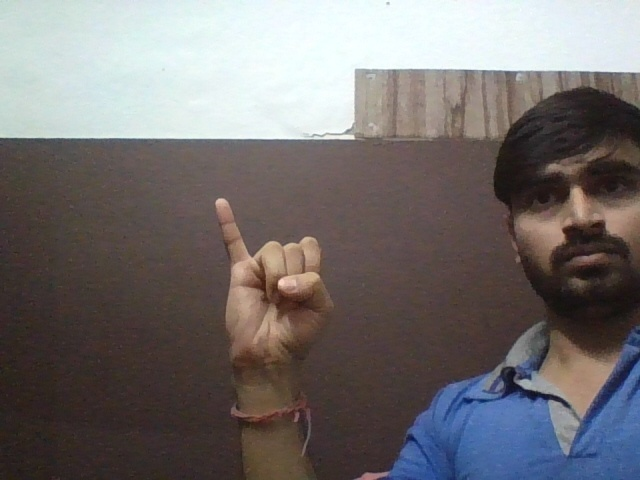I: (194, 195, 340, 379)
